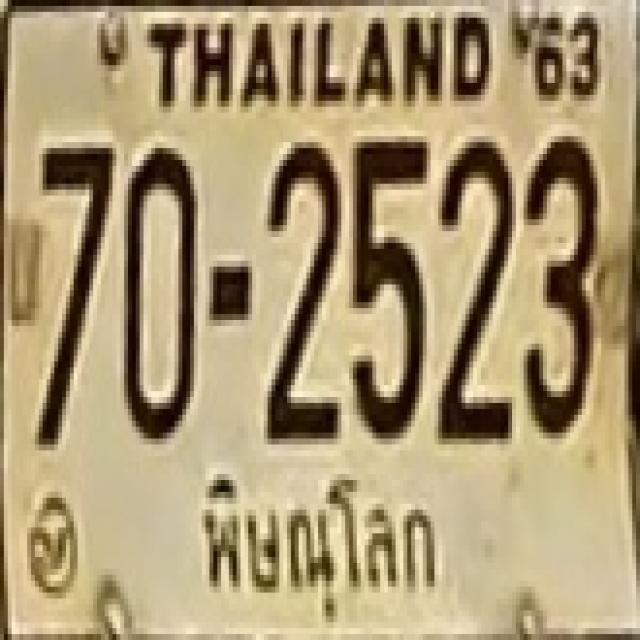0: (122, 142, 196, 439)
2: (436, 136, 514, 438), (264, 140, 337, 442), (438, 136, 512, 421)
3: (520, 130, 593, 432)
5: (349, 136, 423, 433)
7: (35, 143, 112, 444)
PLK: (192, 466, 441, 625)
